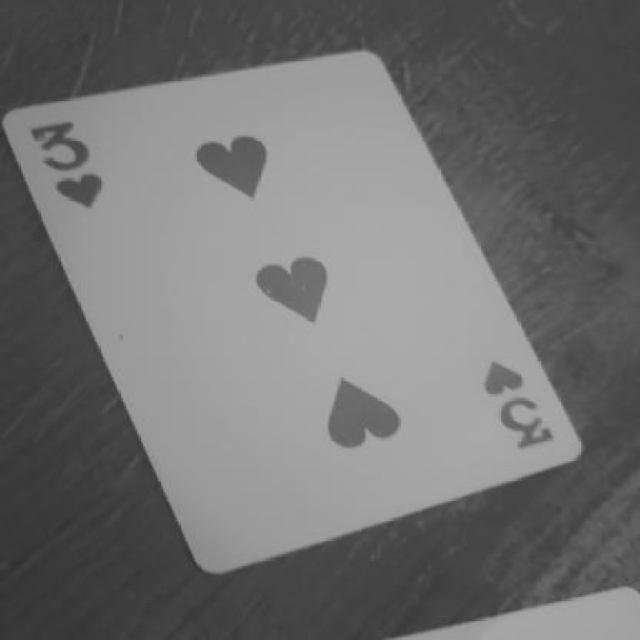3H: (472, 350, 572, 465), (24, 111, 127, 222)
